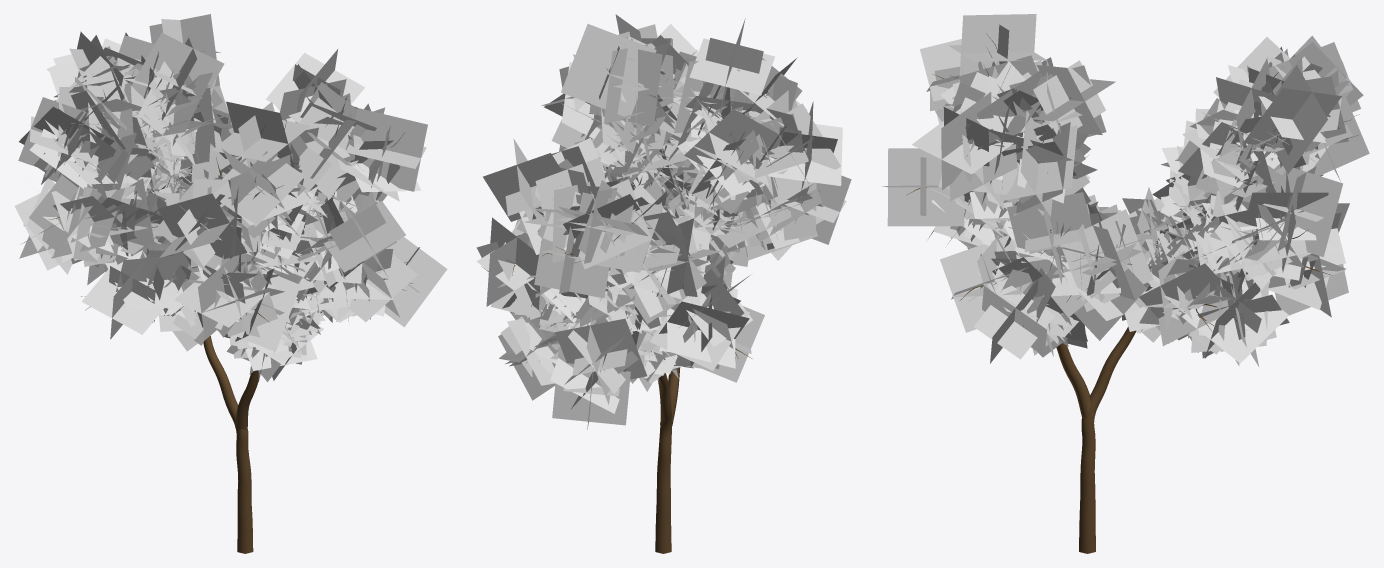
The model's file is tree 2.fbx.
3 renders of one model, left to right at view 1: azimuth 30°, elevation 25°; view 2: azimuth 150°, elevation 25°; view 3: azimuth 270°, elevation 25°, orthographic. The views are drawn at different scales.
Visible parts, largest first — view 1: tree 2; view 2: tree 2; view 3: tree 2.
Part boxes in pixels (bbox=[...]): tree 2: bbox=[14, 14, 447, 553]; tree 2: bbox=[476, 14, 851, 553]; tree 2: bbox=[882, 14, 1369, 553].
Size of the model in its own units: 605 by 912 by 769.
